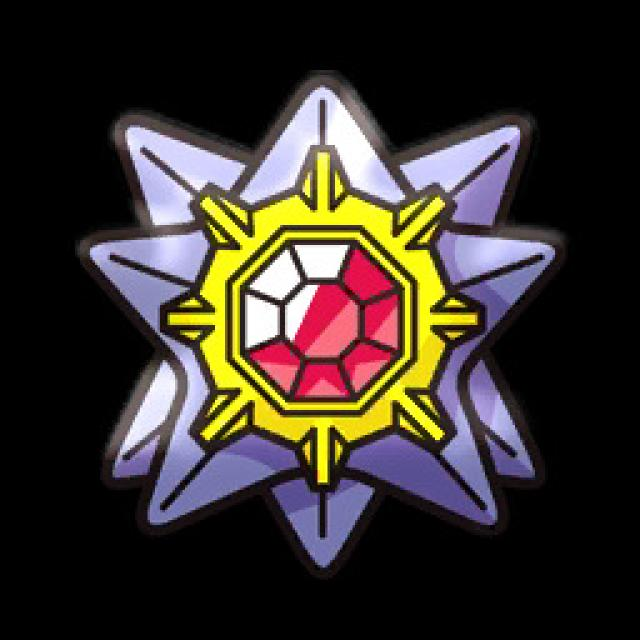Starmie: (110, 118, 544, 516)
